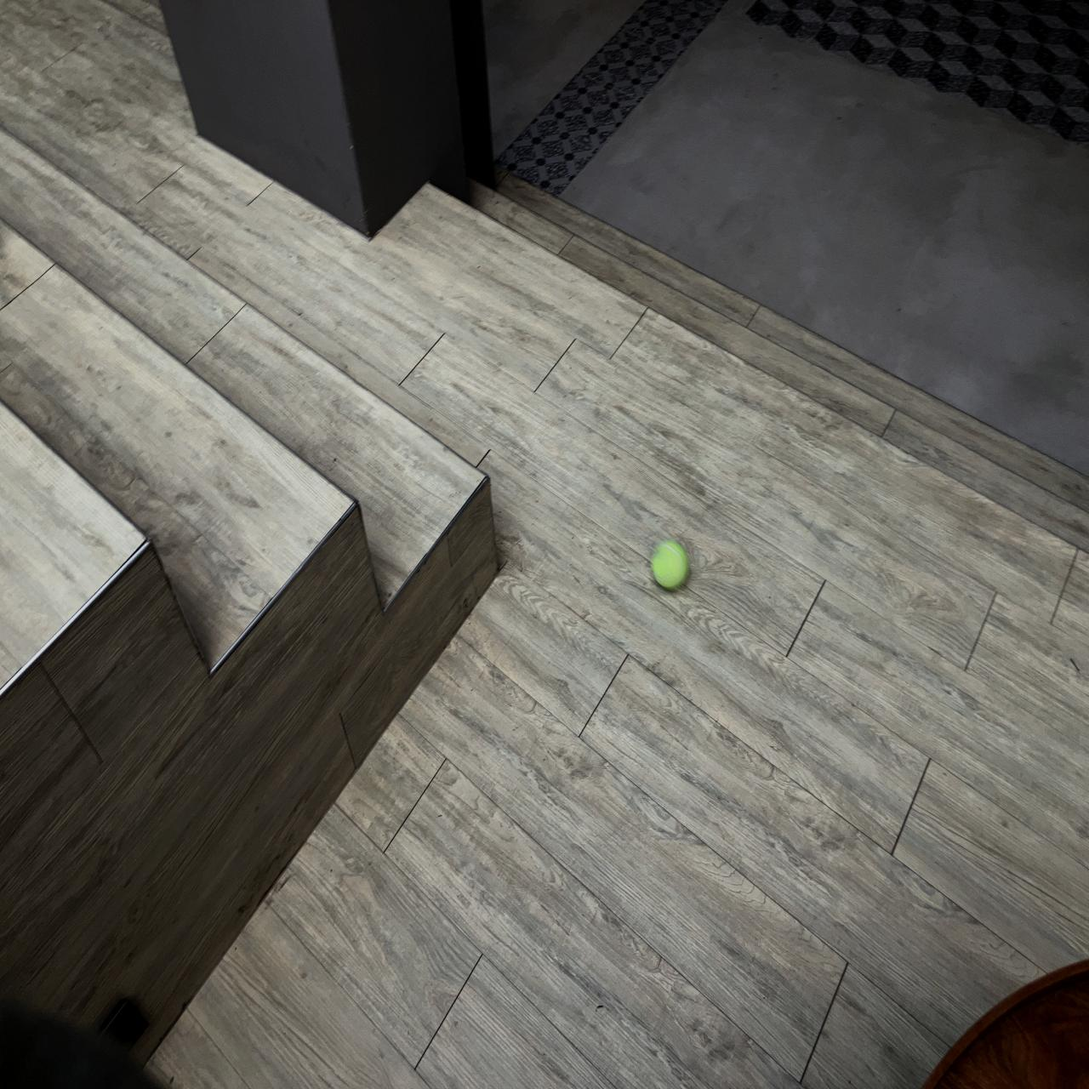tennisball: (375, 868, 411, 919)
